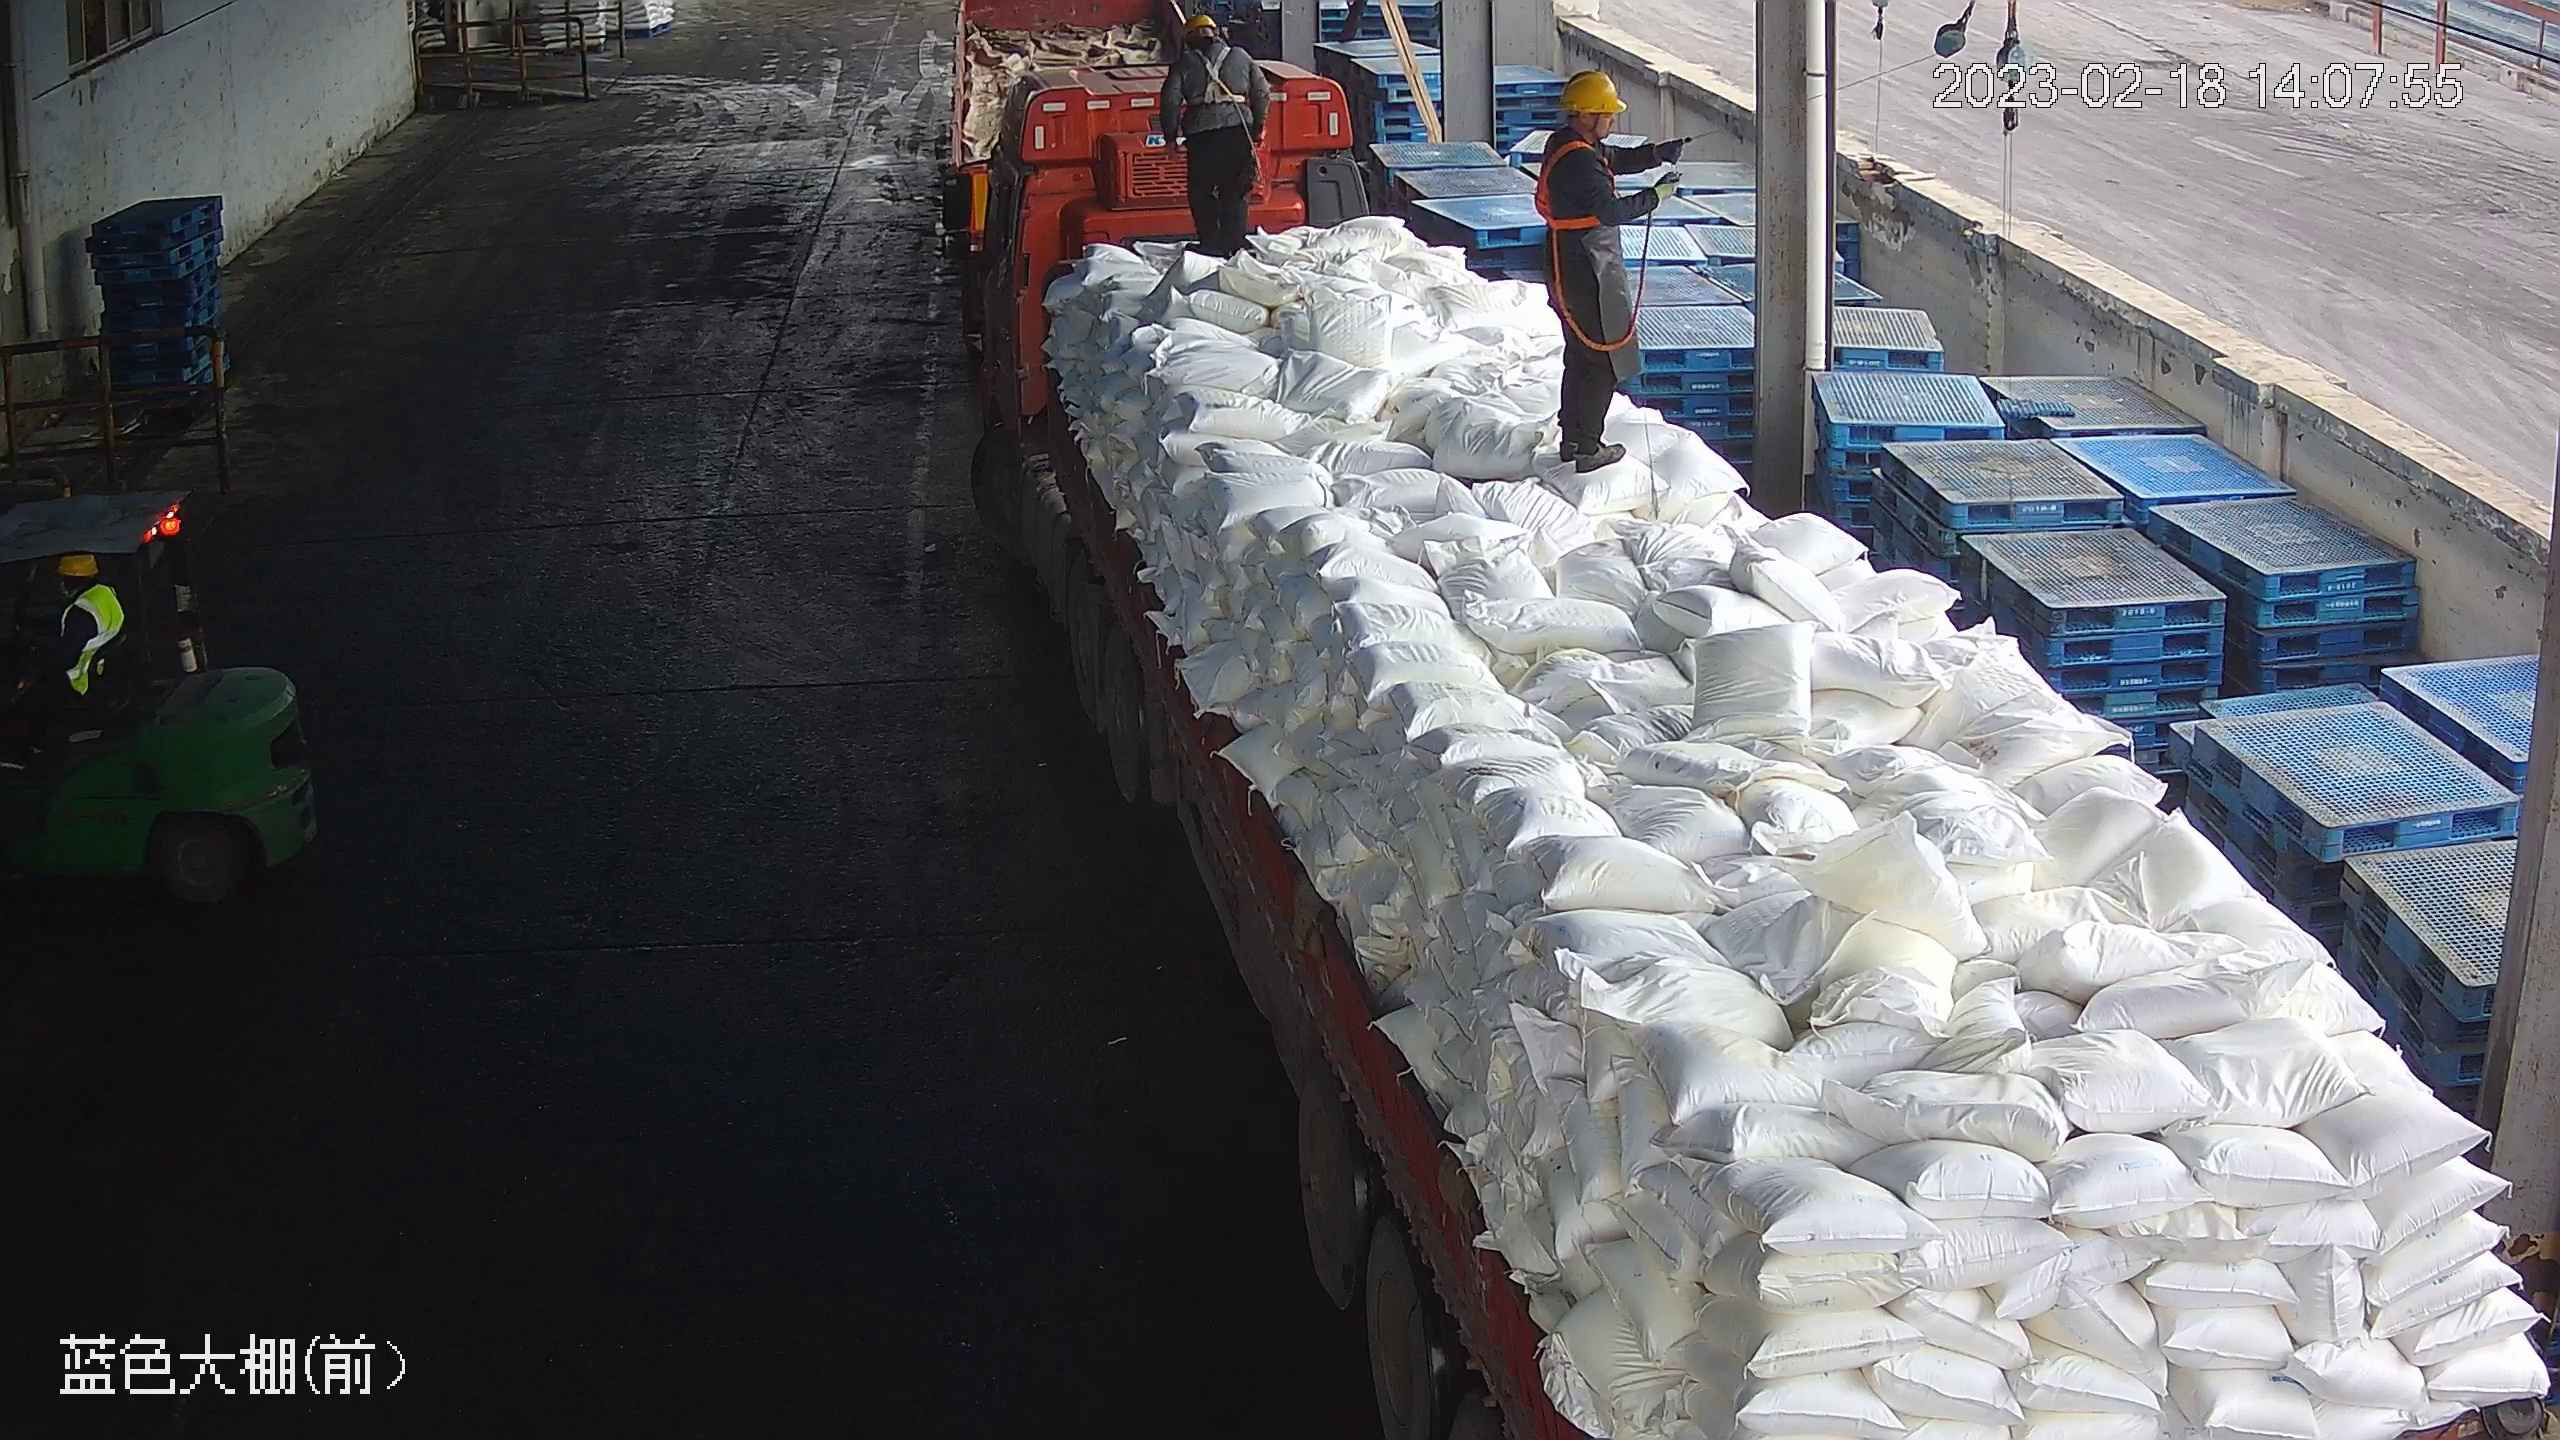belt: (1533, 139, 1619, 234), (1188, 47, 1257, 101)
head: (1536, 73, 1644, 196), (1165, 11, 1256, 92)
helmet: (1562, 71, 1631, 115), (1178, 11, 1219, 43)
people: (1533, 69, 1693, 475), (1158, 14, 1271, 260)
truck: (932, 56, 2560, 1440)
